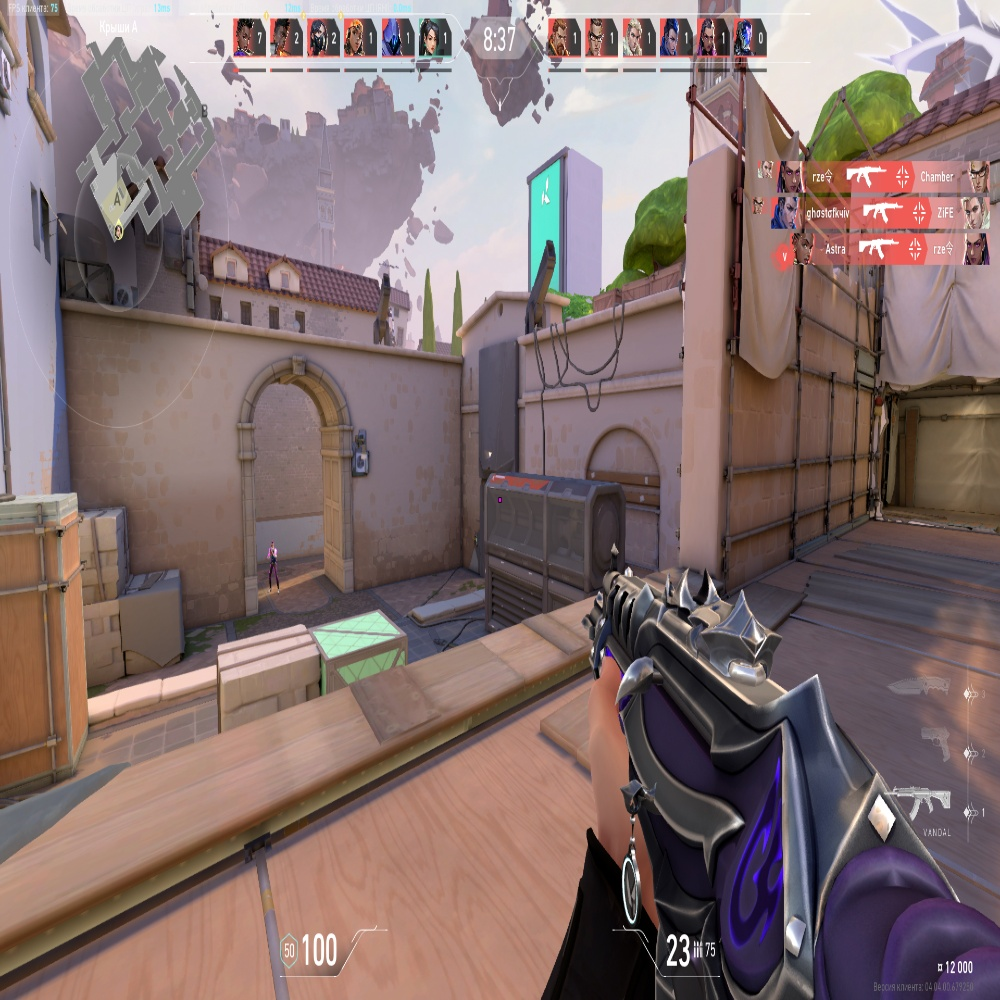body: (268, 549, 277, 566)
head: (271, 541, 274, 548)
